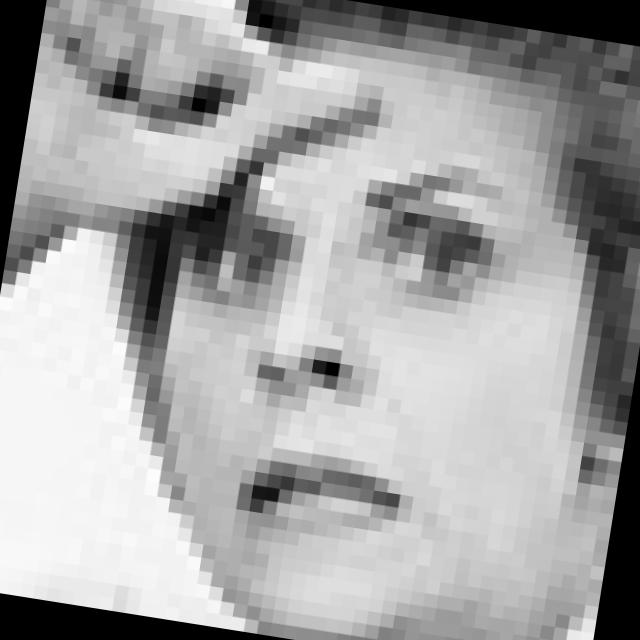fear: (154, 132, 529, 569)
